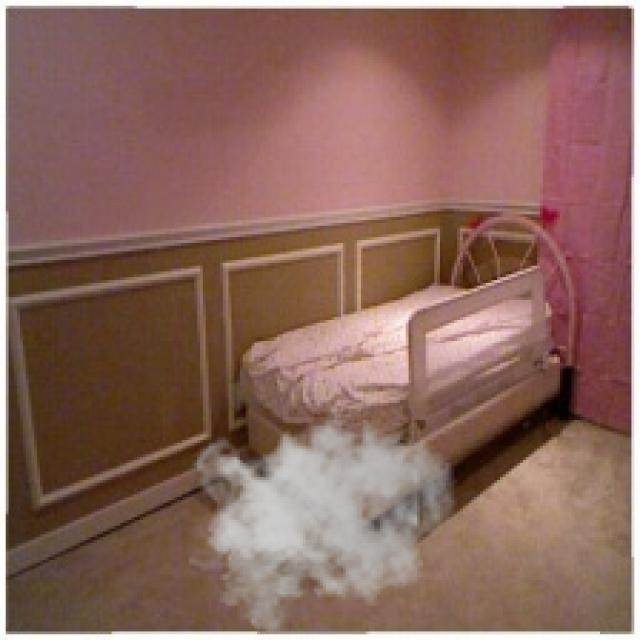Smoke: (188, 397, 458, 632)
